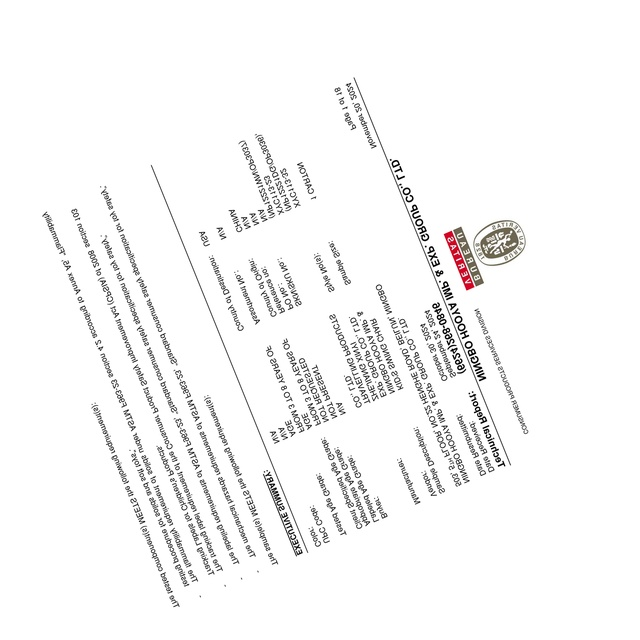bureau_veritas: (440, 216, 529, 291)
